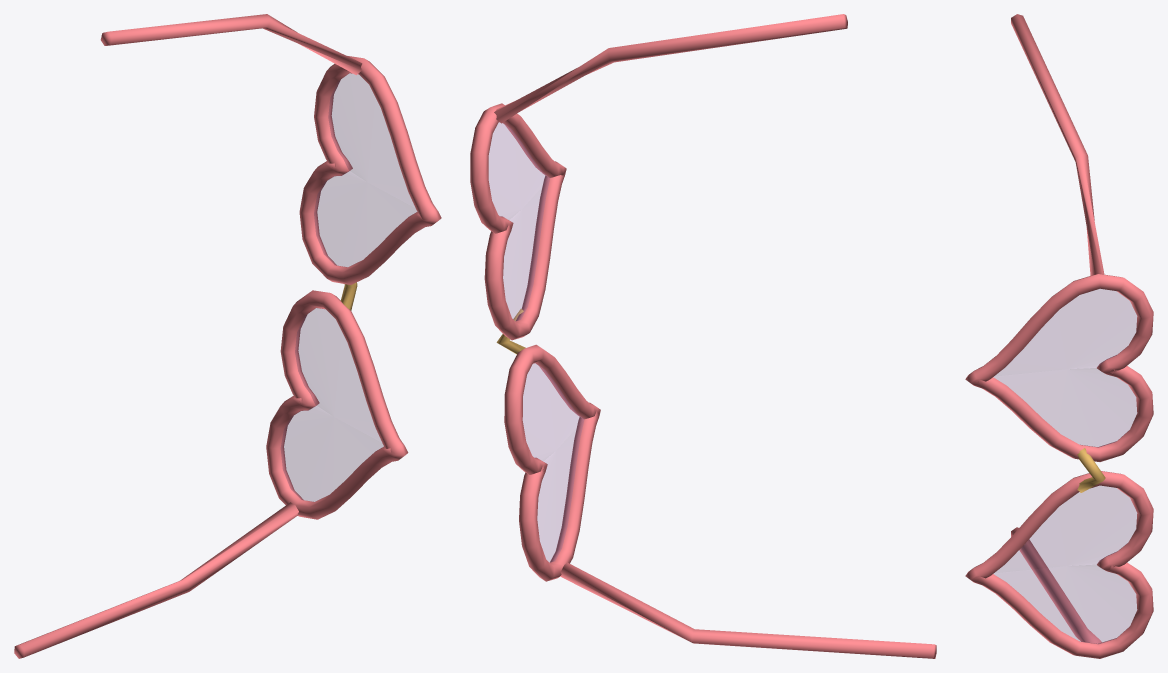
Rendered from heart-pop.glb.
3 renders of one model, left to right at view 1: azimuth 30°, elevation 25°; view 2: azimuth 150°, elevation 25°; view 3: azimuth 270°, elevation 25°, orthographic. The views are drawn at different scales.
Parts seen in each view (by area): view 1: SHOP_heart-pop_optimized; view 2: SHOP_heart-pop_optimized; view 3: SHOP_heart-pop_optimized.
Part boxes in pixels (x1=…): SHOP_heart-pop_optimized: x1=14, y1=14, x2=441, y2=658; SHOP_heart-pop_optimized: x1=470, y1=14, x2=936, y2=658; SHOP_heart-pop_optimized: x1=965, y1=14, x2=1153, y2=658.
Bounding box in the file's own units: 0.1788 × 0.2625 × 0.078.
